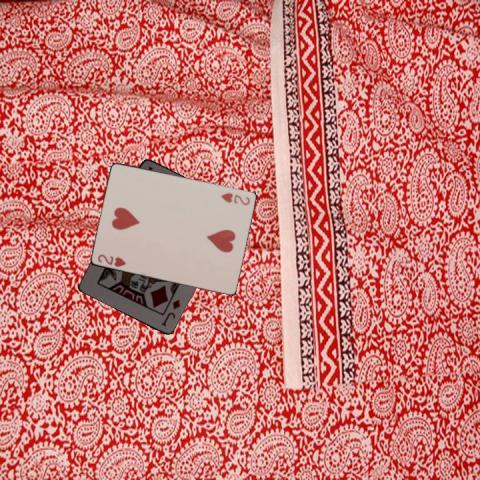2h: (218, 190, 252, 207), (95, 251, 127, 269)
Jd: (158, 296, 181, 327)
